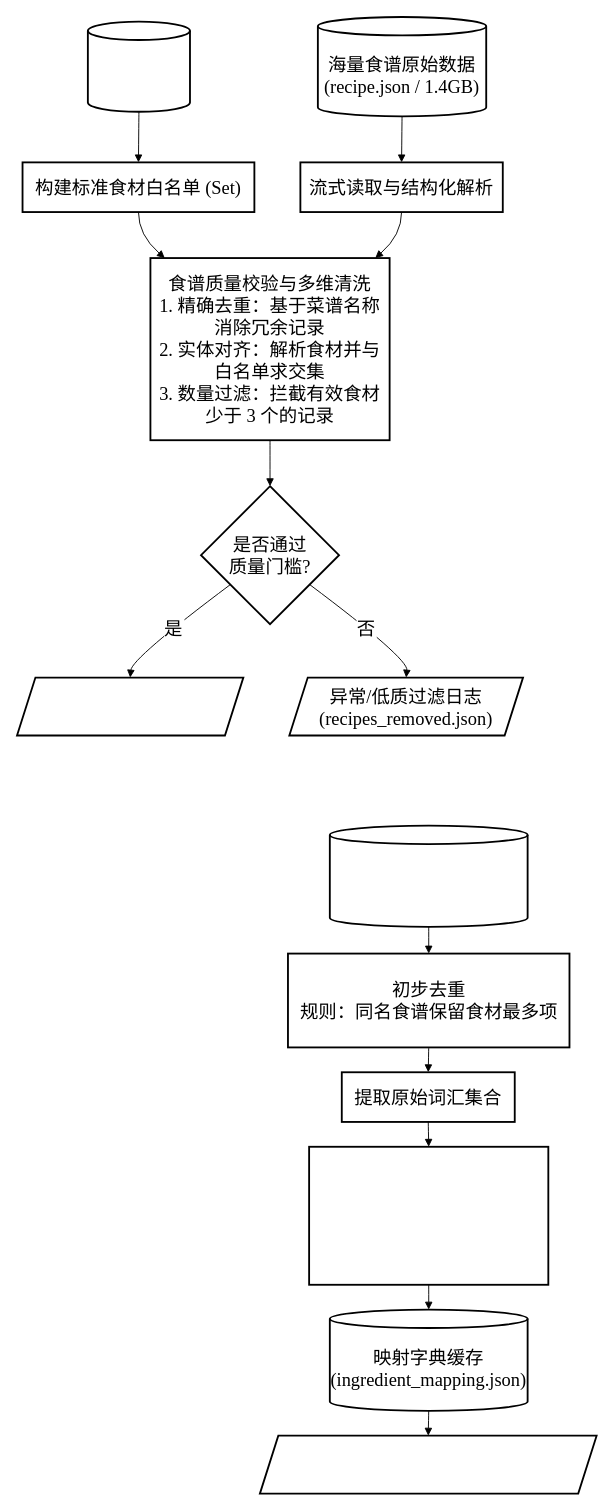
This 613x1510 diagram has some shape labels left out. The shapes that lost their labels are listed below. From the top down, each one's box as (x1, y1, x2, y2) in pixels, then its label:
(86, 20, 190, 112): 基准图谱字典 (food.json)
(16, 676, 244, 736): 高质量图谱对齐数据 (recipe_cleaned.json)
(328, 824, 528, 927): 原始语料 (recipe_corpus_full.json)
(308, 1145, 549, 1285): AI 批量清洗引擎 1. 提取核心名词 2. 剔除修饰词/数量/动作 3. 复杂语义归一化
(259, 1434, 597, 1494): AI 清洗标准化输出 (recipe_corpus_full_ai_cleaned.json)
